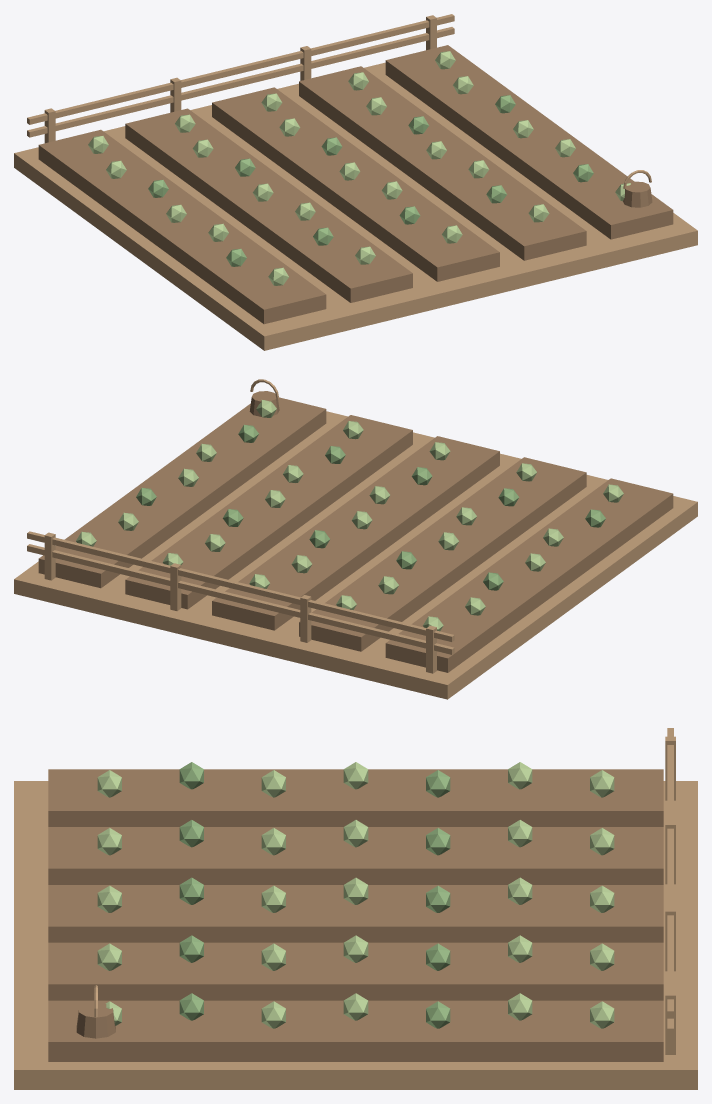
File: farm.glb
The picture shows the model from 3 angles, top to bottom: view 1: azimuth 30°, elevation 25°; view 2: azimuth 150°, elevation 25°; view 3: azimuth 270°, elevation 25°; orthographic projection. The views are drawn at different scales.
Parts seen in each view (by area): view 1: plot, mound_0, mound_1, mound_2, mound_3, mound_4, frail_1, frail_2, bucket; view 2: plot, mound_0, mound_2, mound_1, mound_3, mound_4, frail_2, frail_1, fpost_3, fpost_2, fpost_1; view 3: plot, mound_4, mound_3, mound_0, mound_2, mound_1, frail_2, bucket.
Part boxes in pixels (bbox=[...]): plot: bbox=[14, 62, 697, 350]; mound_0: bbox=[38, 129, 326, 324]; mound_1: bbox=[125, 108, 412, 302]; mound_2: bbox=[212, 87, 499, 281]; mound_3: bbox=[299, 66, 586, 260]; mound_4: bbox=[385, 45, 673, 239]; frail_1: bbox=[27, 27, 454, 137]; frail_2: bbox=[27, 14, 454, 124]; bucket: bbox=[623, 181, 652, 207]; plot: bbox=[14, 411, 697, 699]; mound_0: bbox=[385, 478, 673, 672]; mound_2: bbox=[212, 436, 499, 630]; mound_1: bbox=[299, 457, 586, 651]; mound_3: bbox=[125, 415, 412, 609]; mound_4: bbox=[38, 397, 326, 588]; frail_2: bbox=[27, 531, 454, 641]; frail_1: bbox=[27, 544, 454, 654]; fpost_3: bbox=[44, 532, 55, 580]; fpost_2: bbox=[170, 563, 181, 610]; fpost_1: bbox=[300, 595, 311, 642]; plot: bbox=[14, 781, 697, 1089]; mound_4: bbox=[48, 1000, 663, 1061]; mound_3: bbox=[48, 942, 663, 1000]; mound_0: bbox=[48, 769, 663, 826]; mound_2: bbox=[48, 885, 663, 942]; mound_1: bbox=[48, 827, 663, 884]; frail_2: bbox=[667, 728, 673, 1018]; bucket: bbox=[76, 1003, 115, 1038].
Size of the model in its own units: 5 by 0.666 by 5.
